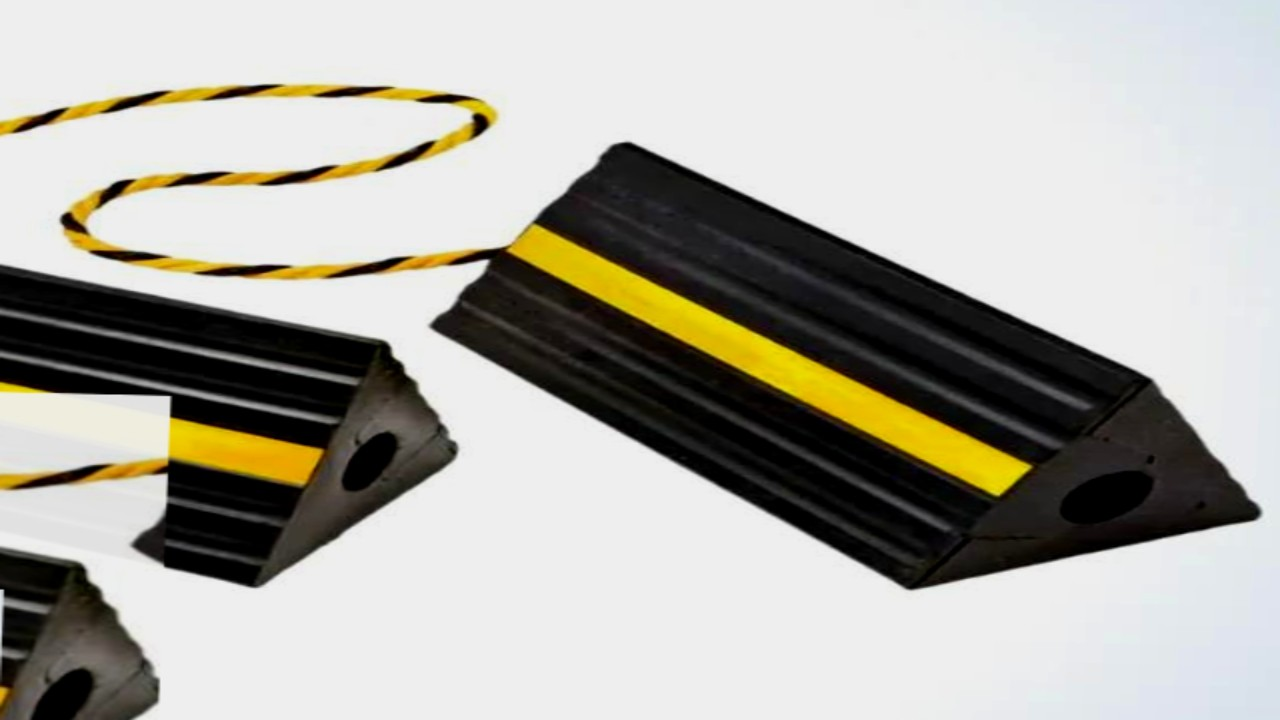chock: (414, 124, 1280, 606), (0, 176, 462, 599)
